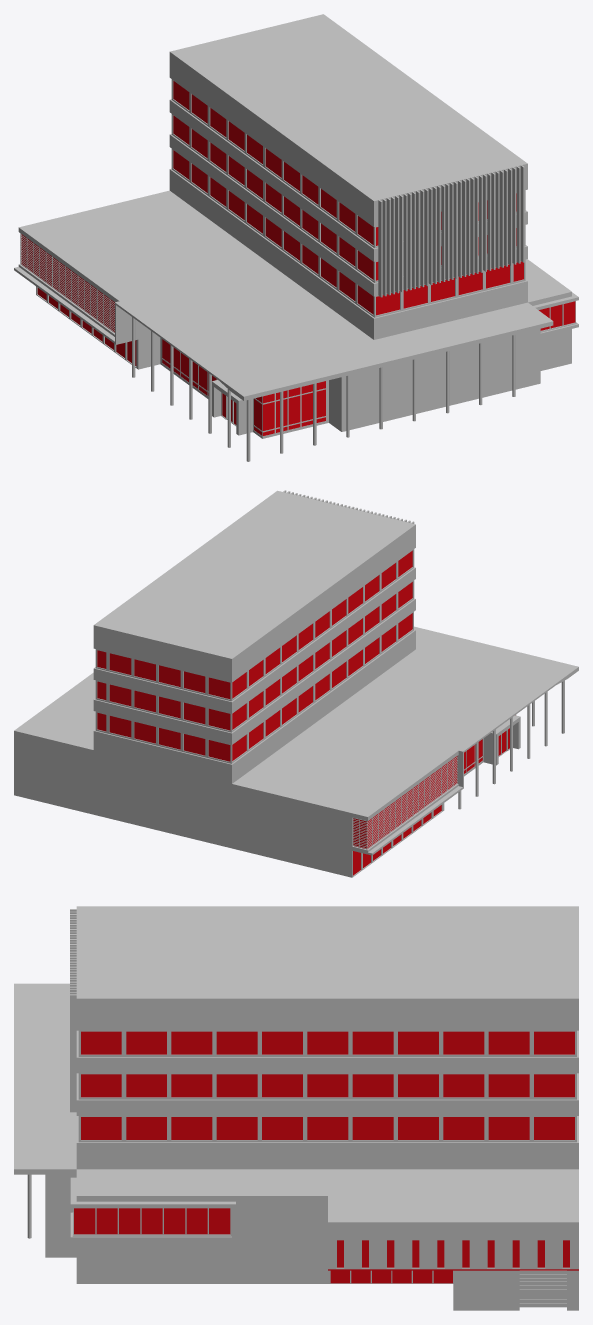
The model's file is SM_infrastructure_buildings_013.gltf.
3 renders of one model, top to bottom at view 1: azimuth 30°, elevation 25°; view 2: azimuth 150°, elevation 25°; view 3: azimuth 270°, elevation 25°, orthographic. The views are drawn at different scales.
Visible parts, largest first — view 1: infrastructure_buildings_013; view 2: infrastructure_buildings_013; view 3: infrastructure_buildings_013.
Part boxes in pixels (x1,y1,x2,y2): infrastructure_buildings_013: [14, 14, 578, 461]; infrastructure_buildings_013: [14, 490, 578, 877]; infrastructure_buildings_013: [14, 906, 578, 1310].
Size of the model in its own units: 36 by 18.2 by 36.
